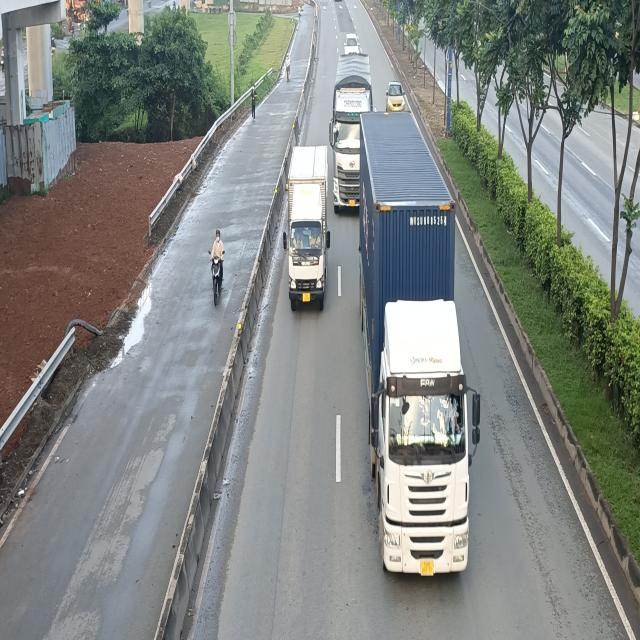container: (360, 112, 485, 576)
truck: (281, 143, 329, 310), (331, 55, 370, 215)
